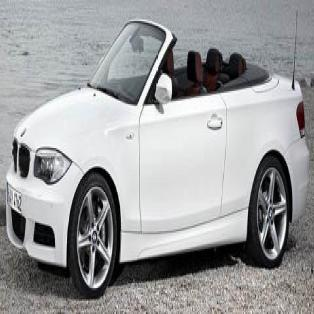Auto: (6, 18, 309, 298)
